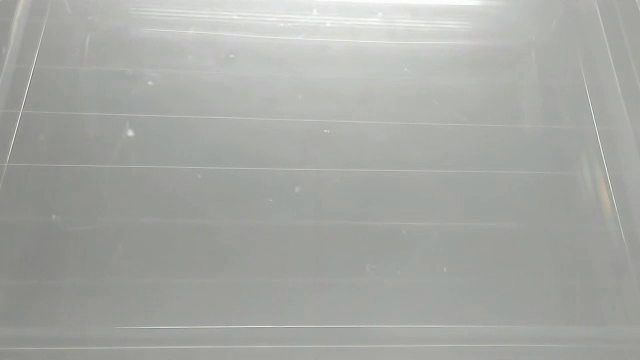alpha: (122, 125, 140, 142)
